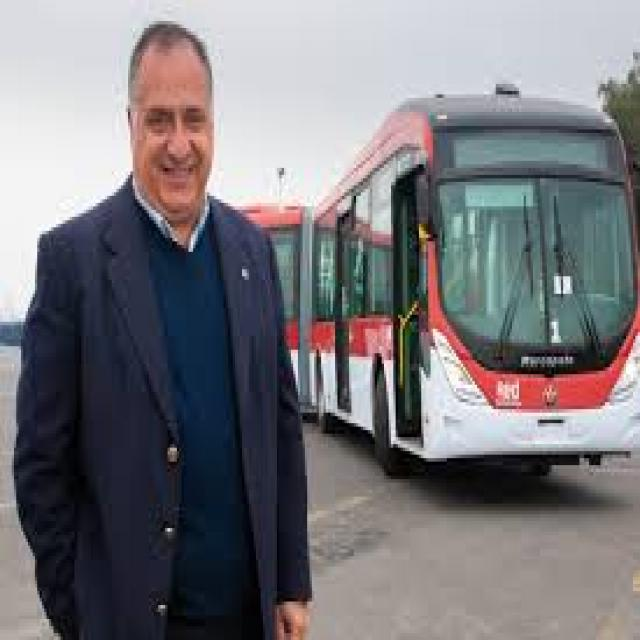AB: (226, 77, 635, 479)
